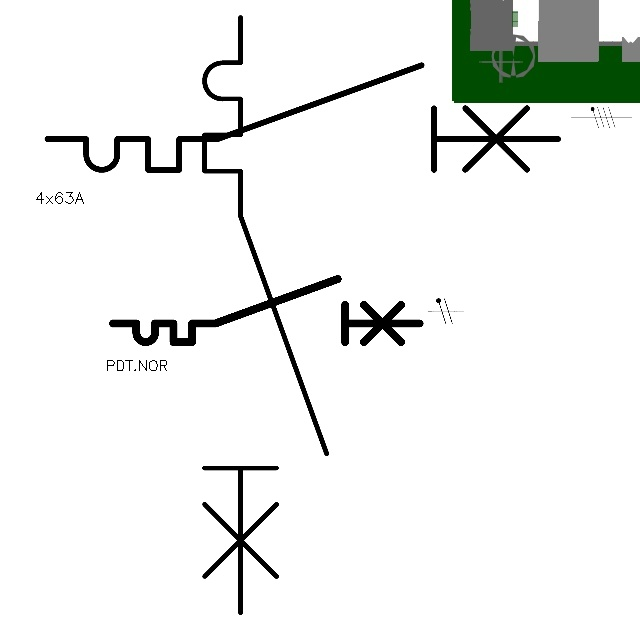interruptor_termomagnetico: (189, 2, 342, 628), (34, 52, 571, 183), (105, 271, 427, 350)
